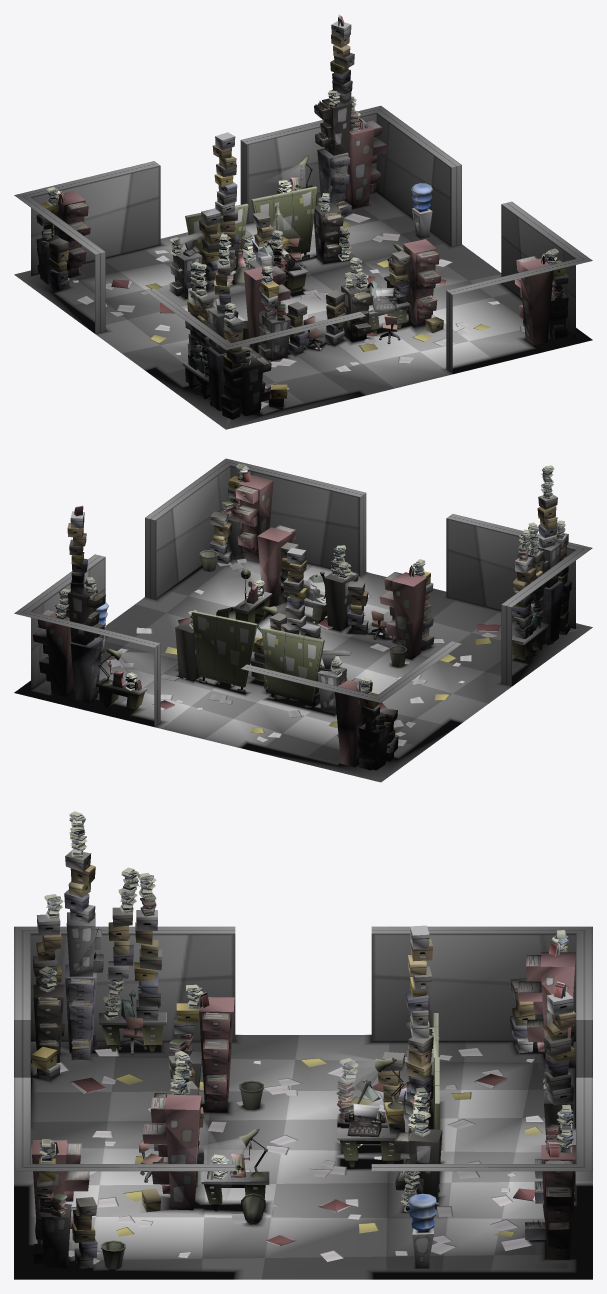
Rendered from field_maze_quadrant3.glb.
3 renders of one model, top to bottom at view 1: azimuth 30°, elevation 25°; view 2: azimuth 150°, elevation 25°; view 3: azimuth 270°, elevation 25°, orthographic. The views are drawn at different scales.
Visible parts, largest first — view 1: maze_floor, maze1_grouping1, maze2_grouping2, maze5_grouping5, maze4_grouping4, maze3_grouping3, maze8_grouping8, maze6_grouping6, maze7_grouping7, maze9_floorPaperGrouping, maze5_floorShadow_grouping5, maze2_floorShadow_grouping2 (+3 smaller); view 2: maze_floor, maze4_grouping4, maze5_grouping5, maze1_grouping1, maze3_grouping3, maze8_grouping8, maze2_grouping2, maze7_grouping7, maze6_grouping6, maze9_floorPaperGrouping, maze2_floorShadow_grouping2, maze1_floorShadow_grouping1 (+8 smaller); view 3: maze_floor, maze5_grouping5, maze2_grouping2, maze1_grouping1, maze4_grouping4, maze8_grouping8, maze9_floorPaperGrouping, maze3_grouping3, maze7_grouping7, maze6_grouping6, maze4_floorShadow_grouping4, maze1_floorShadow_grouping1 (+10 smaller).
Part boxes in pixels (box(x1,y1,x2,y2)): maze_floor: box(15, 193, 591, 429); maze1_grouping1: box(240, 14, 461, 246); maze2_grouping2: box(14, 161, 160, 333); maze5_grouping5: box(145, 234, 365, 419); maze4_grouping4: box(446, 201, 592, 373); maze3_grouping3: box(169, 132, 287, 297); maze8_grouping8: box(341, 239, 443, 343); maze6_grouping6: box(241, 265, 345, 360); maze7_grouping7: box(251, 186, 351, 292); maze9_floorPaperGrouping: box(72, 213, 524, 408); maze5_floorShadow_grouping5: box(143, 365, 368, 429); maze2_floorShadow_grouping2: box(14, 241, 166, 335); maze_floor: box(16, 560, 591, 782); maze4_grouping4: box(145, 458, 366, 599); maze5_grouping5: box(446, 465, 592, 686); maze1_grouping1: box(14, 505, 160, 726); maze3_grouping3: box(261, 548, 351, 714); maze8_grouping8: box(216, 525, 358, 630); maze2_grouping2: box(241, 641, 461, 770); maze7_grouping7: box(175, 606, 276, 693); maze6_grouping6: box(347, 559, 434, 666); maze9_floorPaperGrouping: box(107, 558, 534, 746); maze2_floorShadow_grouping2: box(237, 717, 463, 782); maze1_floorShadow_grouping1: box(14, 636, 167, 727); maze_floor: box(14, 1035, 592, 1279); maze5_grouping5: box(14, 811, 235, 1081); maze2_grouping2: box(371, 926, 592, 1077); maze1_grouping1: box(371, 981, 592, 1259); maze4_grouping4: box(14, 1077, 235, 1269); maze8_grouping8: box(139, 1051, 269, 1224); maze9_floorPaperGrouping: box(57, 1047, 544, 1264); maze3_grouping3: box(336, 925, 439, 1146); maze7_grouping7: box(337, 1057, 442, 1212); maze6_grouping6: box(168, 984, 263, 1112); maze4_floorShadow_grouping4: box(14, 1183, 242, 1279); maze1_floorShadow_grouping1: box(364, 1182, 592, 1279).
Size of the model in its own units: 51.01 by 25.35 by 51.
10 materials, 7 textured.
